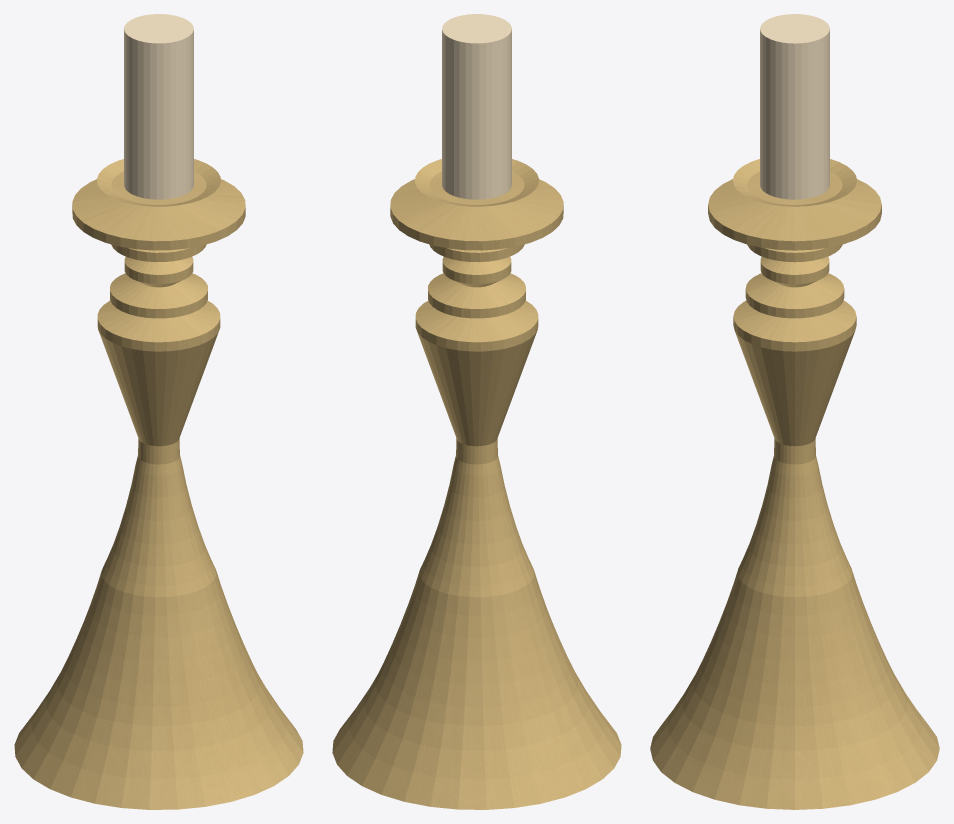
Rendered from Candle.fbx.
3 renders of one model, left to right at view 1: azimuth 30°, elevation 25°; view 2: azimuth 150°, elevation 25°; view 3: azimuth 270°, elevation 25°, orthographic.
Parts seen in each view (by area): view 1: Cylinder; view 2: Cylinder; view 3: Cylinder.
Part boxes in pixels (left/top/right/bottom): Cylinder: left=14, top=14, right=303, bottom=809; Cylinder: left=332, top=14, right=621, bottom=809; Cylinder: left=650, top=14, right=939, bottom=809.
Bounding box in the file's own units: 56.39 × 155 × 56.39.
2 materials, 1 textured.
